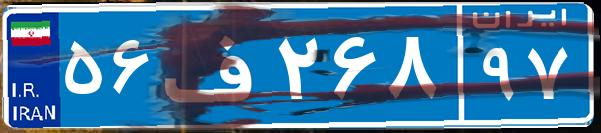2: (273, 28, 330, 110)
5: (57, 26, 110, 107)
6: (330, 28, 385, 110), (110, 28, 158, 105)
7: (525, 38, 570, 115)
8: (385, 28, 445, 110)
9: (475, 38, 525, 113)
ف: (158, 15, 273, 115)
